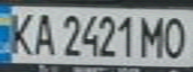1: (115, 12, 139, 59)
2: (57, 10, 81, 58), (97, 11, 118, 58)
4: (78, 11, 100, 58)
A: (30, 9, 57, 57)
K: (3, 9, 39, 56)
M: (136, 12, 169, 59)
O: (160, 13, 193, 60)
